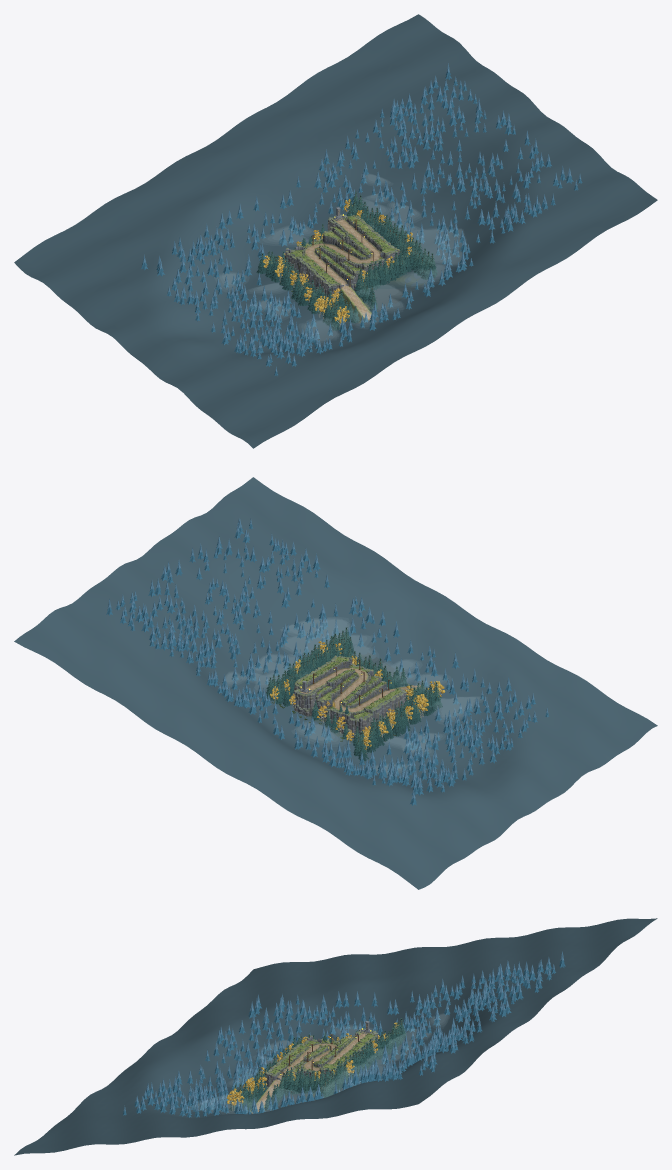
Rendered from forest_arena.glb.
3 renders of one model, top to bottom at view 1: azimuth 30°, elevation 25°; view 2: azimuth 150°, elevation 25°; view 3: azimuth 330°, elevation 25°, orthographic.
Parts seen in each view (by area): view 1: Forest_Valley, Distant_Forest_Silhouettes, Arena_Terrain, Basalt_Cliffs.001, Valley_Mist, Shrubs_Grass_Flowers; view 2: Forest_Valley, Distant_Forest_Silhouettes, Basalt_Cliffs.001, Arena_Terrain, Valley_Mist, Shrubs_Grass_Flowers; view 3: Forest_Valley, Distant_Forest_Silhouettes, Arena_Terrain, Valley_Mist, Basalt_Cliffs.001, Shrubs_Grass_Flowers.
Part boxes in pixels (x1,y1,x2,y2): Forest_Valley: (14,14,657,448); Distant_Forest_Silhouettes: (141,63,582,376); Arena_Terrain: (288,216,426,329); Basalt_Cliffs.001: (285,214,399,301); Valley_Mist: (223,175,461,340); Shrubs_Grass_Flowers: (281,215,395,314); Forest_Valley: (14,477,657,889); Distant_Forest_Silhouettes: (106,518,548,805); Basalt_Cliffs.001: (292,655,406,742); Arena_Terrain: (288,651,442,742); Valley_Mist: (227,620,474,772); Shrubs_Grass_Flowers: (272,657,420,741); Forest_Valley: (14,918,657,1155); Distant_Forest_Silhouettes: (123,951,565,1117); Arena_Terrain: (230,1029,374,1113); Valley_Mist: (195,1015,445,1111); Basalt_Cliffs.001: (263,1028,378,1088); Shrubs_Grass_Flowers: (271,1033,374,1073).
Size of the model in its own units: 120 by 47.64 by 123.
